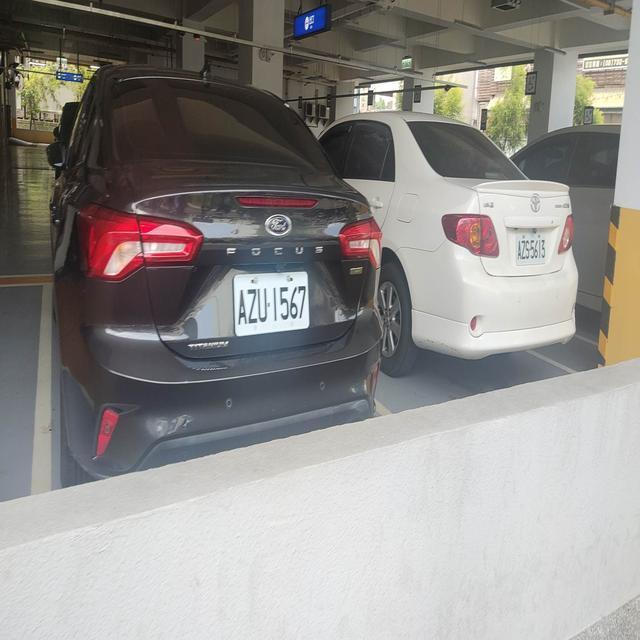license: (234, 275, 310, 334), (511, 233, 554, 265)
